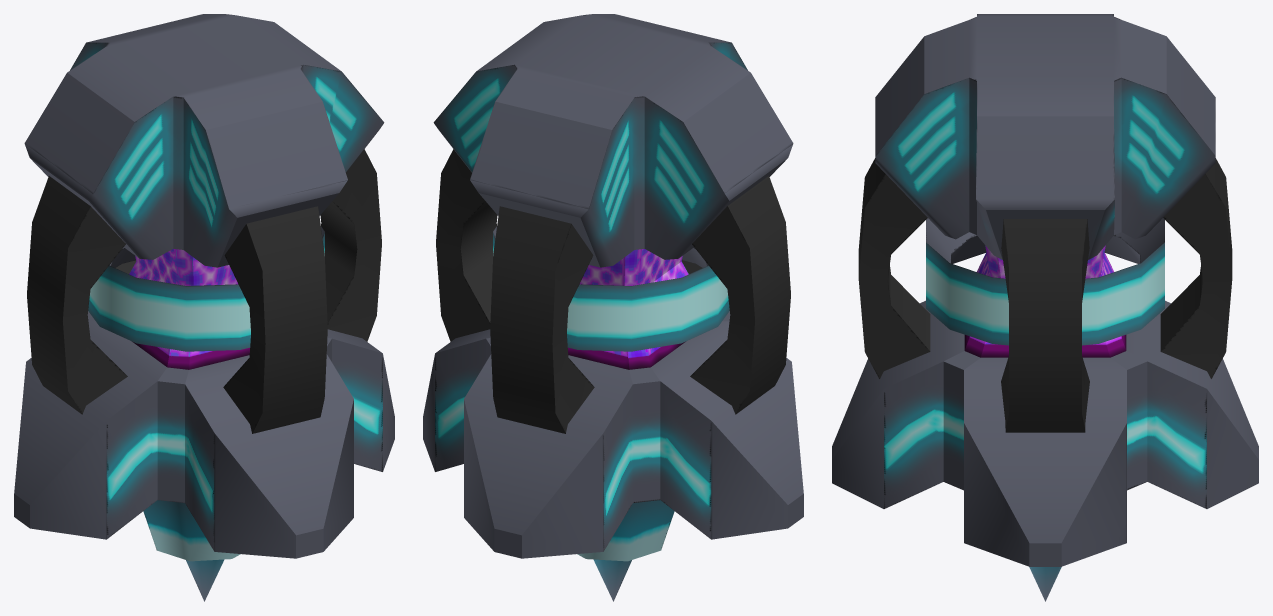
The model's file is Pickup_CoolantNodeAnimated.fbx.
3 renders of one model, left to right at view 1: azimuth 30°, elevation 25°; view 2: azimuth 150°, elevation 25°; view 3: azimuth 270°, elevation 25°, orthographic.
Parts seen in each view (by area): view 1: Coolant_Node1; view 2: Coolant_Node1; view 3: Coolant_Node1.
Boxes of the visible parts, x1,y1,x2,y2 form: Coolant_Node1: (14,14,394,601); Coolant_Node1: (423,14,803,601); Coolant_Node1: (832,14,1258,601).
Bounding box in the file's own units: 117 × 168 × 117.
